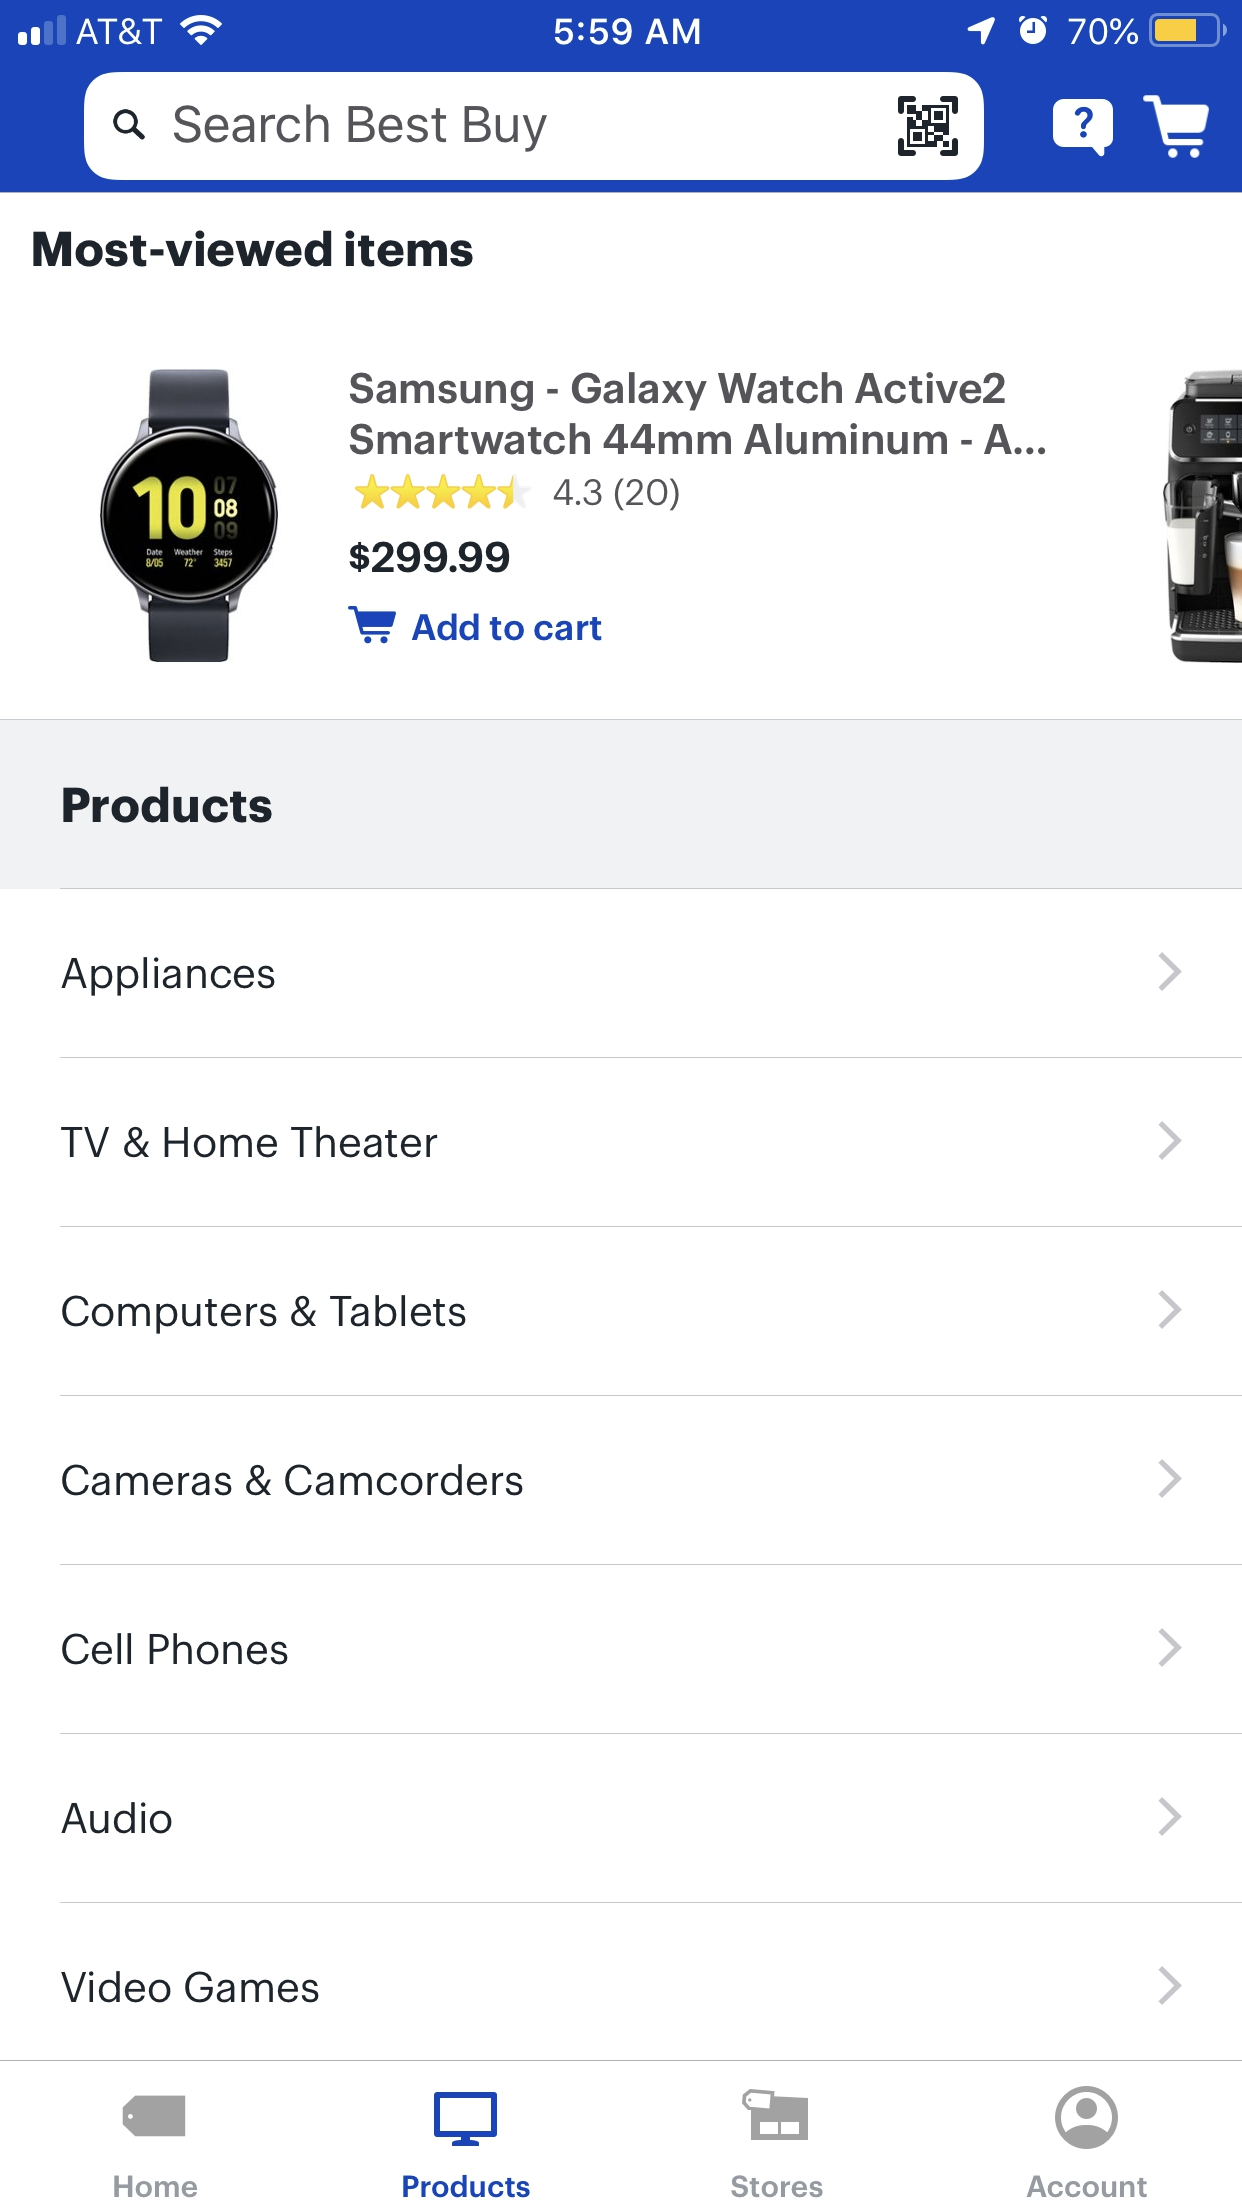EditText: (85, 73, 986, 182)
Icon: (355, 475, 534, 510), (1142, 96, 1210, 161), (1055, 2085, 1119, 2150), (1052, 99, 1115, 158), (123, 2094, 187, 2137), (347, 607, 397, 645), (1159, 1121, 1183, 1162), (114, 111, 146, 141), (1159, 1965, 1183, 2005), (1159, 1629, 1183, 1668), (1157, 1459, 1181, 1498), (1159, 1291, 1183, 1330), (1159, 952, 1183, 992), (1159, 1797, 1181, 1836)
Image: (100, 369, 281, 664), (1162, 369, 1242, 664), (898, 96, 958, 158), (434, 2091, 499, 2147), (742, 2088, 808, 2141)
Text: (349, 372, 1046, 456), (174, 105, 547, 153), (33, 229, 475, 268), (62, 1295, 467, 1335), (62, 1463, 525, 1497), (61, 1127, 438, 1159), (62, 955, 276, 996), (61, 1970, 320, 2003), (64, 786, 273, 823), (62, 1632, 290, 1665), (412, 613, 604, 641), (349, 541, 510, 575), (554, 478, 681, 513), (61, 1802, 173, 1835), (403, 2175, 531, 2197), (1027, 2175, 1148, 2197), (731, 2175, 823, 2197), (114, 2175, 199, 2197)
UpperTaskBar: (2, 2, 1242, 49)
